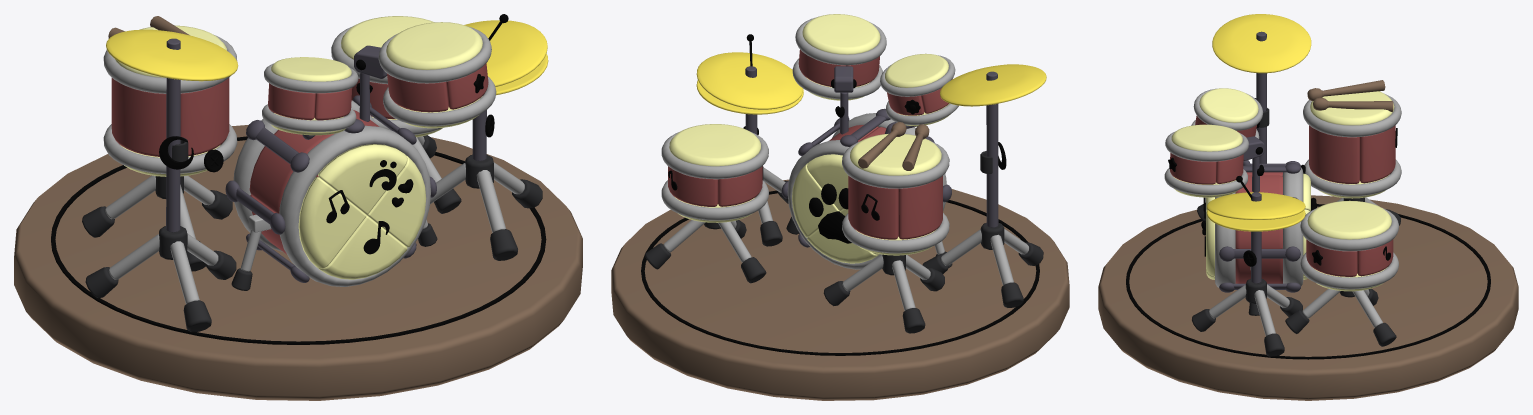
File: DrumChapter06.fbx
The picture shows the model from 3 angles, left to right: view 1: azimuth 30°, elevation 25°; view 2: azimuth 150°, elevation 25°; view 3: azimuth 270°, elevation 25°; orthographic projection. The views are drawn at different scales.
Parts seen in each view (by area): view 1: S_Drum77, M_Drum, S_Drum10, S_Drum73, S_Drum72, S_Drum34, S_Drum15, S_Drum19, S_Drum16, S_Drum8, S_Drum9, S_Drum12 (+28 smaller); view 2: S_Drum77, M_Drum, S_Drum72, S_Drum73, S_Drum8, S_Drum13, S_Drum19, S_Drum14, S_Drum34, S_Drum9, S_Drum15, S_Drum16 (+22 smaller); view 3: S_Drum77, M_Drum, S_Drum73, S_Drum72, S_Drum9, S_Drum13, S_Drum8, S_Drum14, S_Drum19, S_Drum71, S_Drum10, S_Drum15 (+16 smaller).
Boxes of the visible parts, x1=… form: S_Drum77: x1=14, y1=125, x2=582, y2=400; M_Drum: x1=111, y1=16, x2=488, y2=279; S_Drum10: x1=279, y1=125, x2=430, y2=286; S_Drum73: x1=106, y1=29, x2=238, y2=81; S_Drum72: x1=464, y1=20, x2=547, y2=86; S_Drum34: x1=166, y1=38, x2=180, y2=232; S_Drum15: x1=378, y1=26, x2=491, y2=83; S_Drum19: x1=103, y1=124, x2=237, y2=173; S_Drum16: x1=383, y1=76, x2=496, y2=126; S_Drum8: x1=103, y1=34, x2=237, y2=93; S_Drum9: x1=233, y1=100, x2=375, y2=251; S_Drum12: x1=264, y1=63, x2=358, y2=93; S_Drum77: x1=611, y1=179, x2=1069, y2=400; M_Drum: x1=668, y1=14, x2=952, y2=263; S_Drum72: x1=696, y1=52, x2=803, y2=109; S_Drum73: x1=940, y1=64, x2=1046, y2=106; S_Drum8: x1=842, y1=141, x2=949, y2=188; S_Drum13: x1=661, y1=131, x2=768, y2=179; S_Drum19: x1=842, y1=213, x2=949, y2=253; S_Drum14: x1=661, y1=180, x2=768, y2=220; S_Drum34: x1=986, y1=71, x2=998, y2=227; S_Drum9: x1=787, y1=140, x2=881, y2=269; S_Drum15: x1=795, y1=17, x2=886, y2=65; S_Drum16: x1=792, y1=58, x2=882, y2=99; S_Drum77: x1=1098, y1=195, x2=1518, y2=400; M_Drum: x1=1170, y1=87, x2=1395, y2=291; S_Drum73: x1=1212, y1=14, x2=1311, y2=73; S_Drum72: x1=1207, y1=192, x2=1305, y2=219; S_Drum9: x1=1282, y1=167, x2=1303, y2=286; S_Drum13: x1=1300, y1=207, x2=1398, y2=251; S_Drum8: x1=1303, y1=93, x2=1401, y2=137; S_Drum14: x1=1300, y1=252, x2=1398, y2=289; S_Drum19: x1=1304, y1=159, x2=1401, y2=196; S_Drum71: x1=1207, y1=210, x2=1305, y2=231; S_Drum10: x1=1215, y1=192, x2=1235, y2=287; S_Drum15: x1=1165, y1=131, x2=1248, y2=161.
Bounding box in the file's own units: 830 × 488 × 830.
